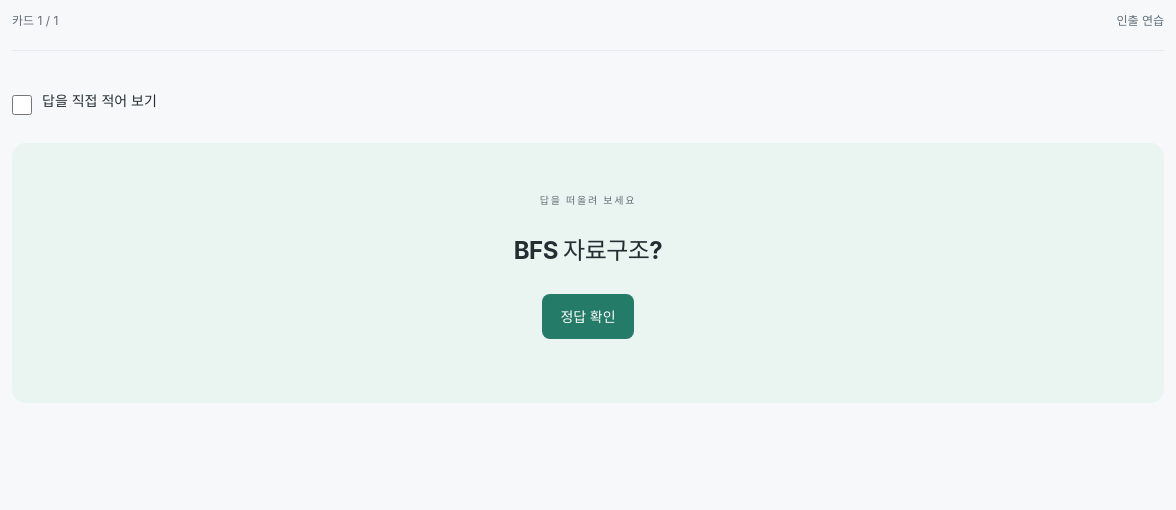
Test case: retrieval reveals answer only on request and schedules a due card
Later steps or results of the test are not shown.
Expected: the heading "BFS 자료구조?" is shown, [514, 236, 662, 265]
Expected: the text "큐" is not shown
Click the button "정답 확인" at {"x": 588, "y": 316}, box [542, 294, 634, 339]
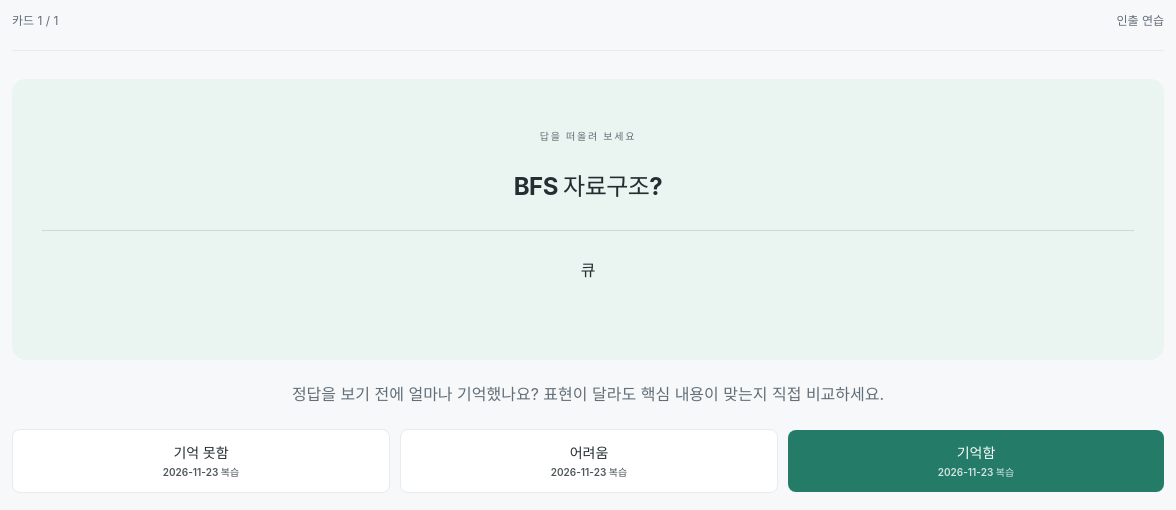
Expected: the text "큐" is shown, [42, 230, 1134, 285]
